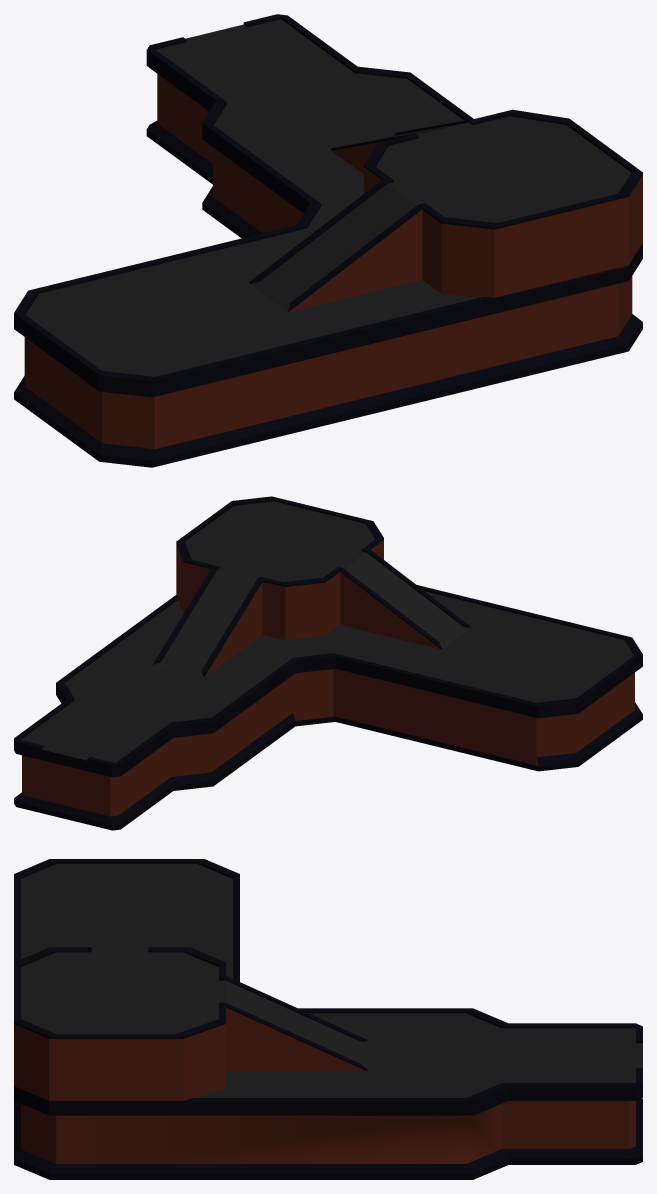
The model's file is platform1.fbx.
3 renders of one model, top to bottom at view 1: azimuth 30°, elevation 25°; view 2: azimuth 150°, elevation 25°; view 3: azimuth 270°, elevation 25°, orthographic. The views are drawn at different scales.
Parts seen in each view (by area): view 1: Cube.056 (×3), Cube.057, Cube.058, Cube.059; view 2: Cube.056 (×3), Cube.059 (×2), Cube.057, Cube.058; view 3: Cube.056 (×3), Cube.059 (×2), Cube.057, Cube.058.
Boxes of the visible parts, x1,y1,x2,y2 form: Cube.056 (×3): (14, 19, 642, 467); Cube.057: (14, 14, 642, 383); Cube.058: (249, 109, 642, 311); Cube.059: (331, 142, 377, 174); Cube.056 (×3): (14, 501, 642, 830); Cube.059 (×2): (153, 570, 262, 677); Cube.057: (14, 585, 642, 766); Cube.058: (153, 496, 470, 676); Cube.056 (×3): (14, 864, 642, 1179); Cube.059 (×2): (226, 981, 367, 1071); Cube.057: (14, 859, 642, 1102); Cube.058: (14, 947, 367, 1071).
Size of the model in its own units: 1620 by 446 by 1780.
